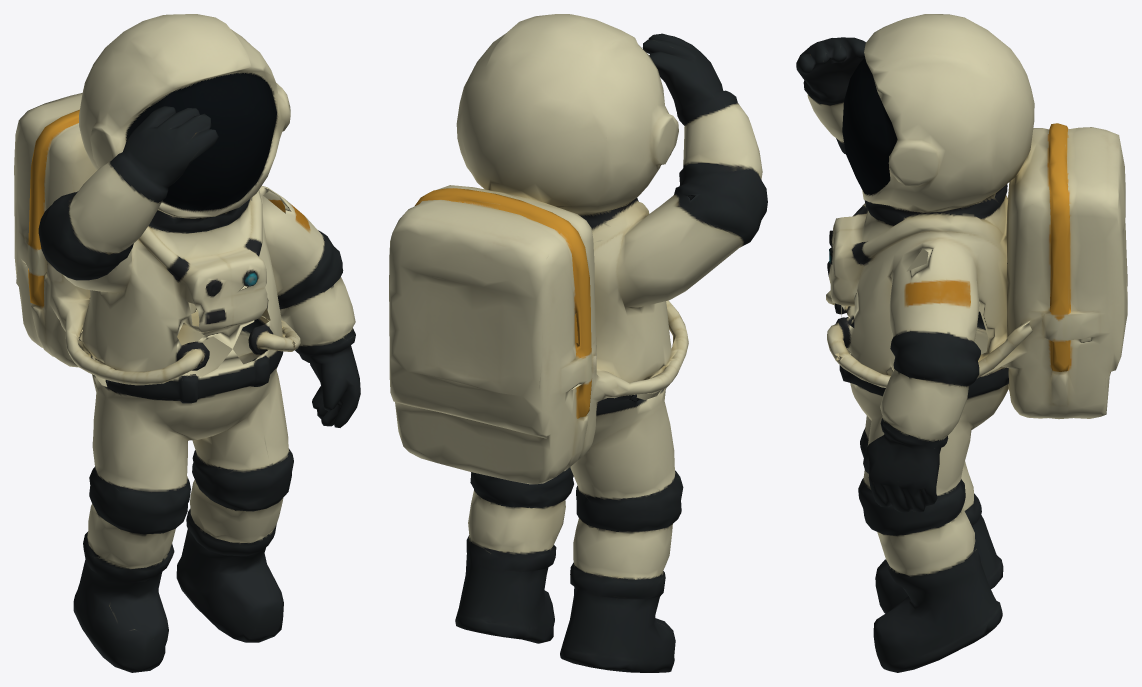
File: figura-osmatrivaetsya.glb
The picture shows the model from 3 angles, left to right: view 1: azimuth 30°, elevation 25°; view 2: azimuth 150°, elevation 25°; view 3: azimuth 270°, elevation 25°; orthographic projection. The views are drawn at different scales.
Visible parts, largest first — view 1: geometry_0; view 2: geometry_0; view 3: geometry_0.
Part boxes in pixels (x1,y1,x2,y2): geometry_0: (14,14,360,672); geometry_0: (389,14,767,672); geometry_0: (796,14,1127,672).
Bounding box in the file's own units: 0.5458 × 1 × 0.488.
1 material, 1 textured.
